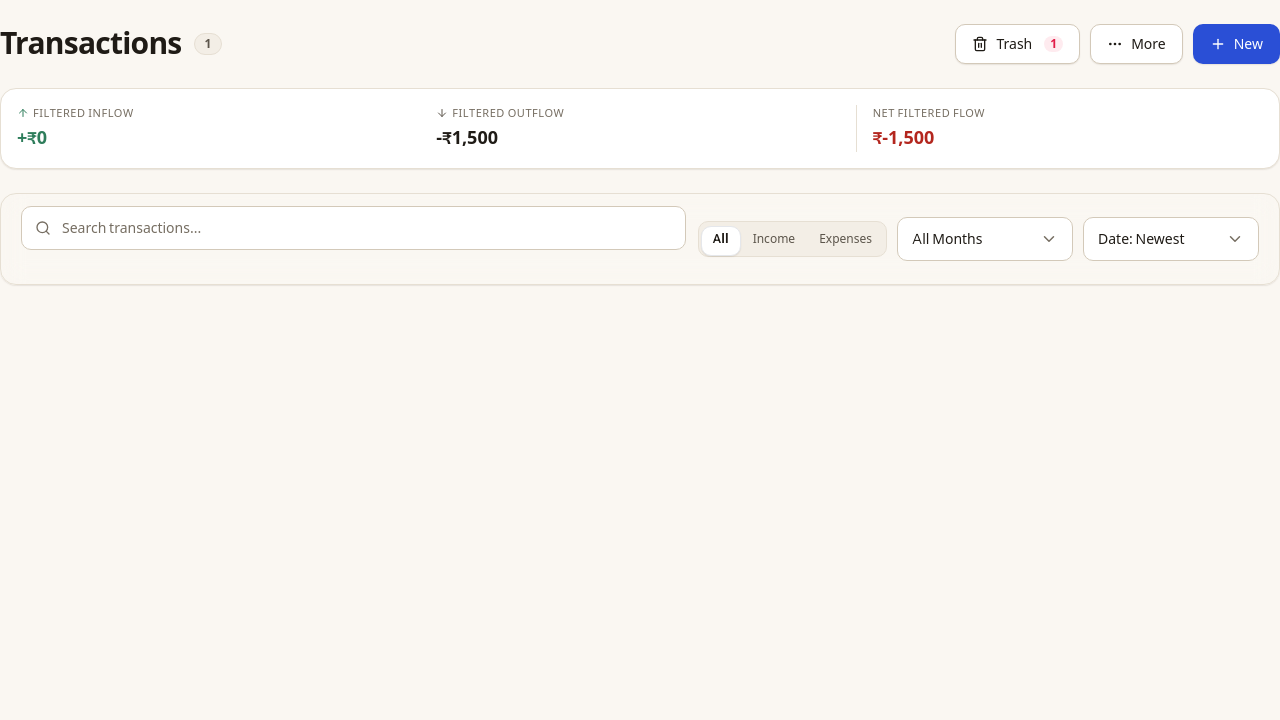
TransactionsTab Trash & Activity History Integration (DIFF-5) › renders Trash button with count badge and opens Trash modal on click
The width and height of the screenshot is (1280, 720).
Click the button with aria-label "Trash (1)".
click(1018, 44)  # box [956,24,1080,64]
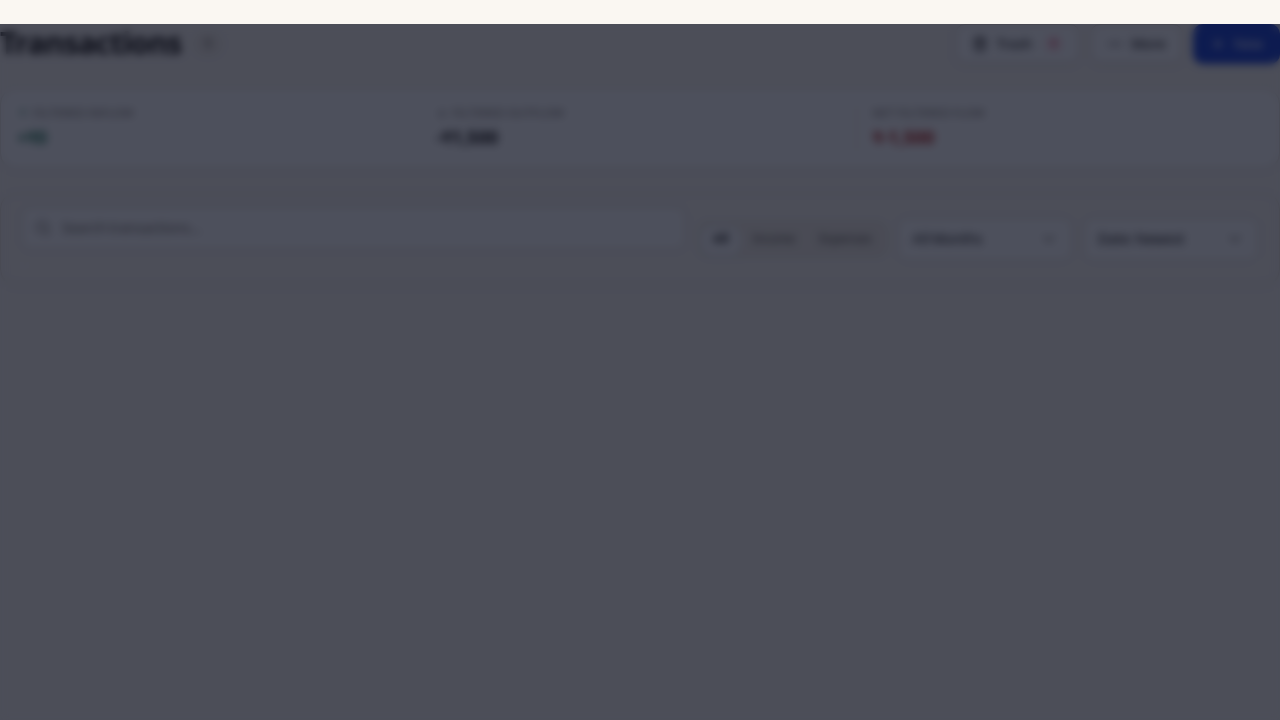
Expected: the dialog named "Trash Bin" is shown
